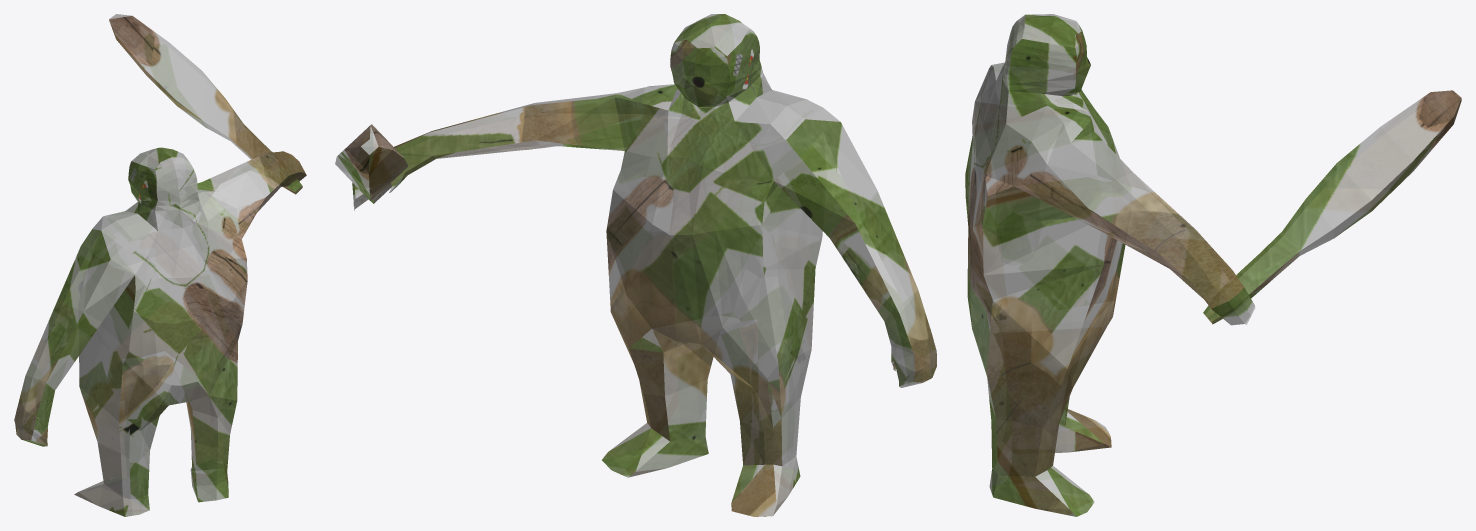
Rendered from Enemigo216.obj.
3 renders of one model, left to right at view 1: azimuth 30°, elevation 25°; view 2: azimuth 150°, elevation 25°; view 3: azimuth 270°, elevation 25°, orthographic. The views are drawn at different scales.
Parts seen in each view (by area): view 1: Cube; view 2: Cube; view 3: Cube.
Boxes of the visible parts, x1,y1,x2,y2 form: Cube: (14, 14, 306, 516); Cube: (335, 14, 936, 516); Cube: (965, 14, 1461, 516).
Size of the model in its own units: 2.93 by 2.7 by 2.66.
1 material, 1 textured.
